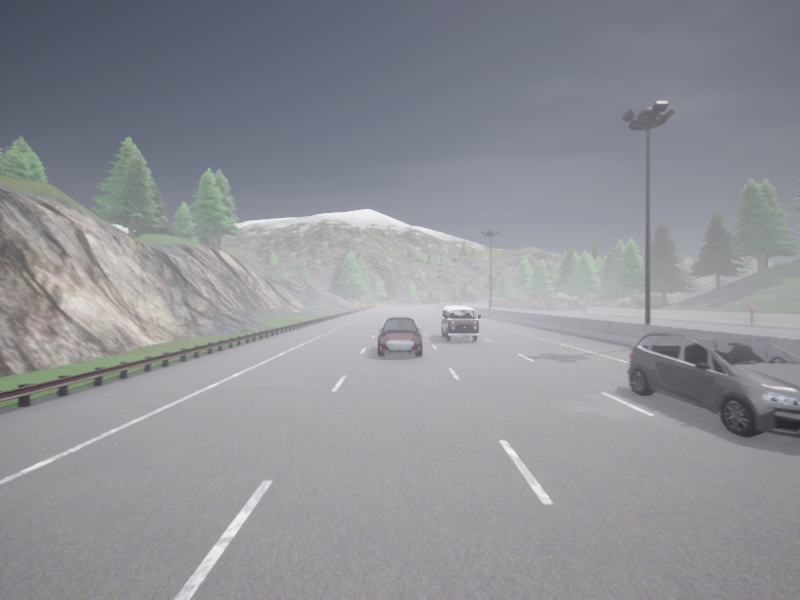vehicle: (628, 330, 799, 437), (377, 316, 422, 356), (441, 306, 480, 341), (457, 302, 462, 304)
